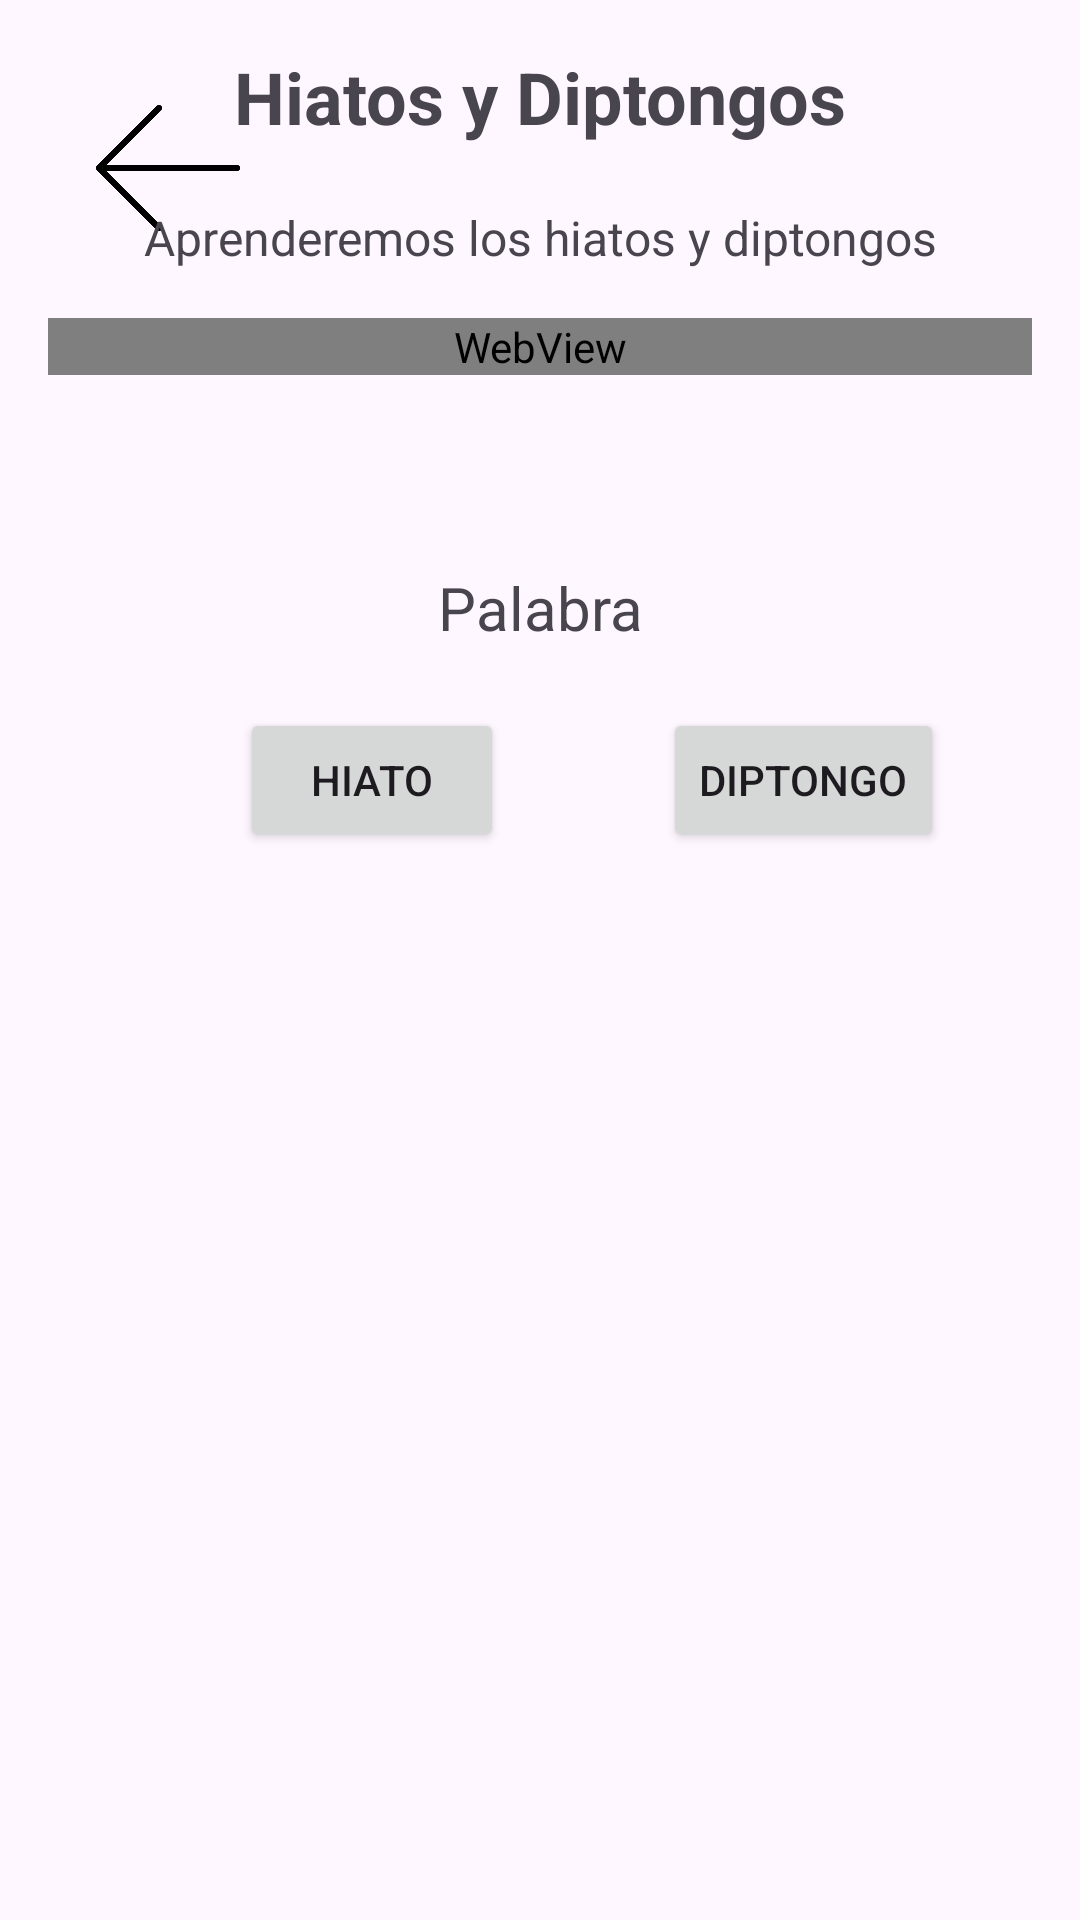

Locate icon controls on the screen. Image size 1080px x 1920px, boxes as (x1, y1, x2, y2).
Botón de volver: (96, 96, 240, 240)
